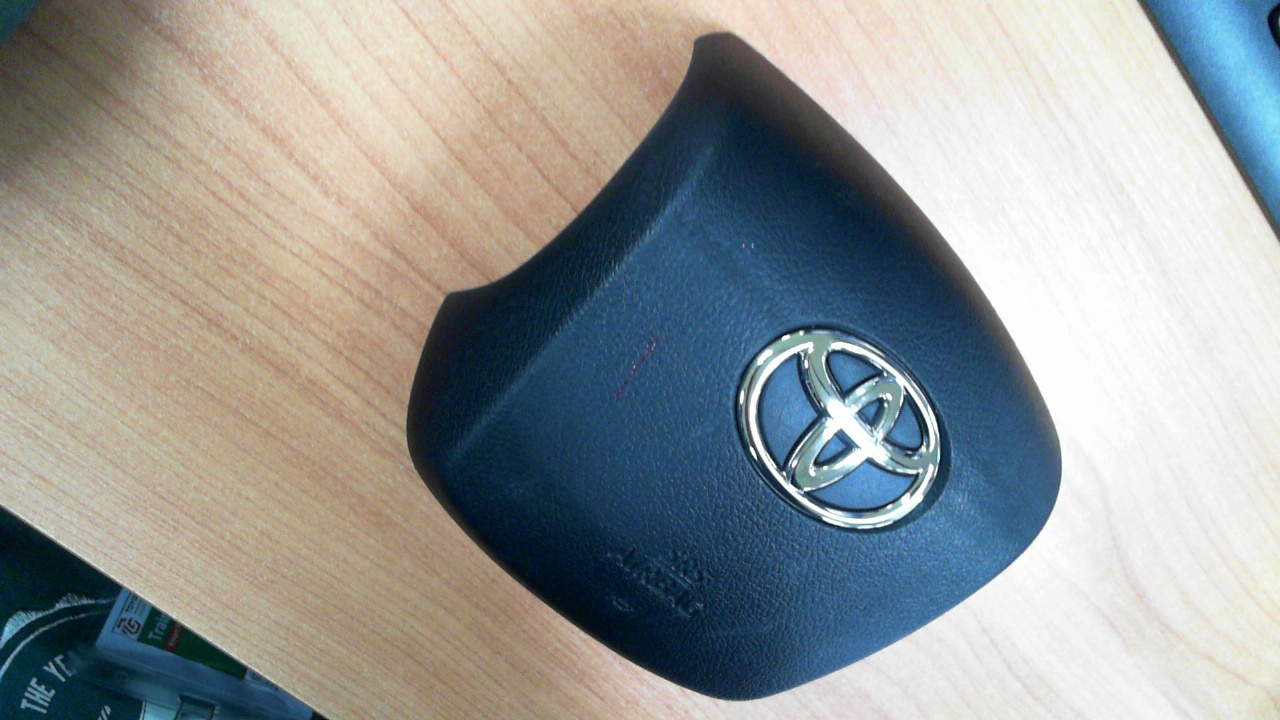Airbag: (404, 30, 1064, 703)
Toyota: (739, 329, 941, 530)
